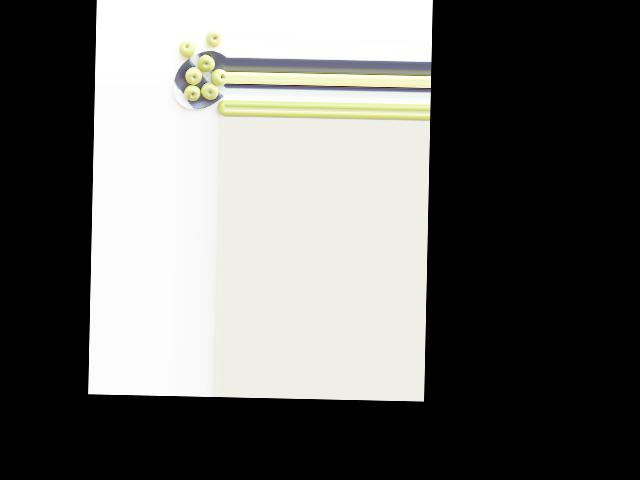apple: (182, 83, 200, 101)
